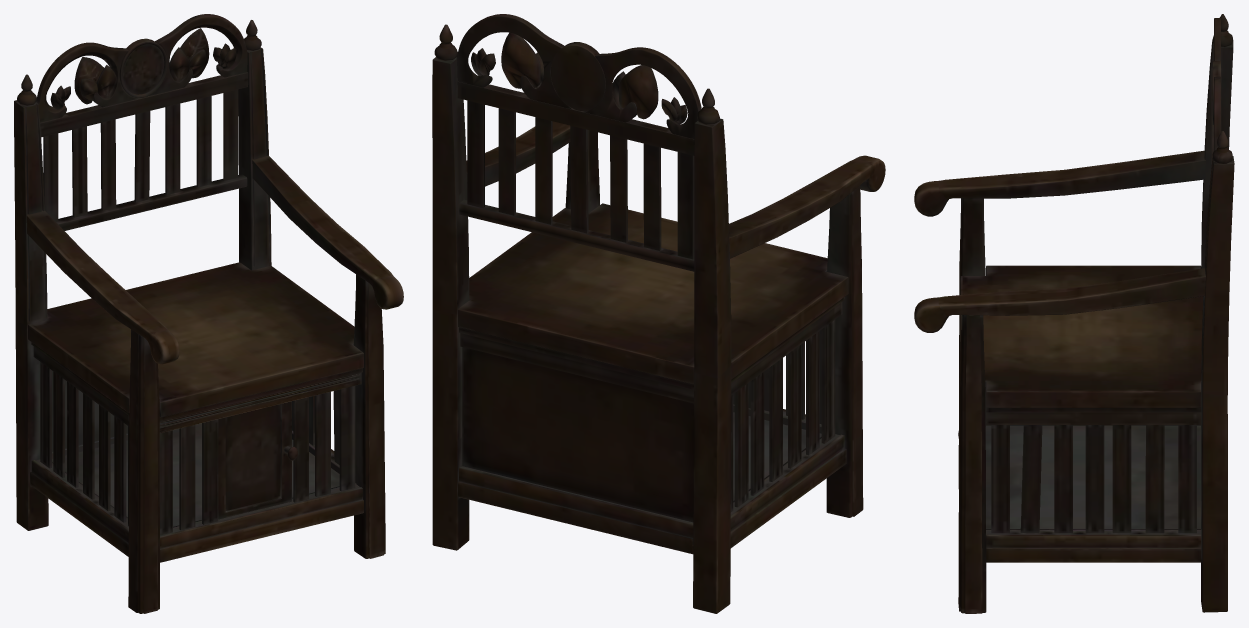
Rendered from gallinera_chair.a367aa70.glb.
3 views of the same model, side by side, from view 1: azimuth 30°, elevation 25°; view 2: azimuth 150°, elevation 25°; view 3: azimuth 270°, elevation 25° (orthographic). The views are drawn at different scales.
Parts seen in each view (by area): view 1: gallinera_chair; view 2: gallinera_chair; view 3: gallinera_chair.
Part boxes in pixels (x1,y1,x2,y2): gallinera_chair: [14, 14, 403, 613]; gallinera_chair: [432, 14, 885, 613]; gallinera_chair: [914, 14, 1234, 613].
Bounding box in the file's own units: 0.5618 × 1 × 0.5842.
Materials: 1 (1 with a texture image).
